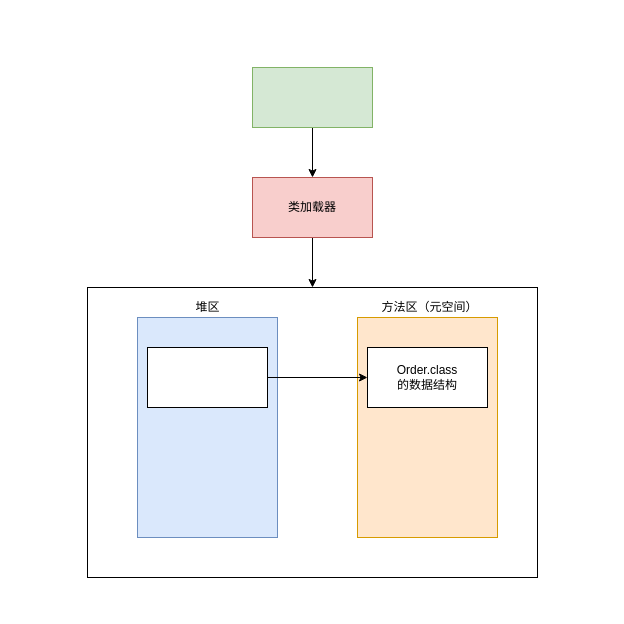
The diagram is 624 pixels wide and 624 high, and some of its shapes have lost their labels. The shapes that lost their labels are listed below. From the top down, each one's centre as x and y in pixels, then its label:
At (312,97): "Order.class".
At (207,377): "Order.class 的Class对象".
